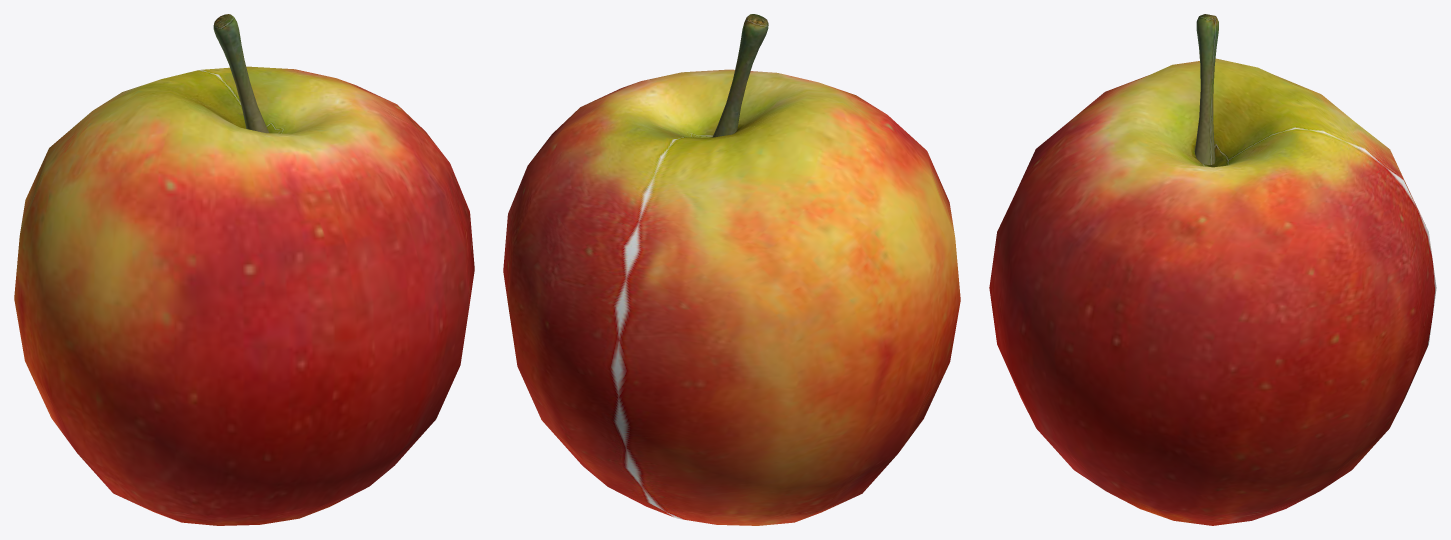
File: apple-512.glb
The picture shows the model from 3 angles, left to right: view 1: azimuth 30°, elevation 25°; view 2: azimuth 150°, elevation 25°; view 3: azimuth 270°, elevation 25°; orthographic projection. The views are drawn at different scales.
Parts seen in each view (by area): view 1: apple_Sphere; view 2: apple_Sphere; view 3: apple_Sphere.
Part boxes in pixels (x1,y1,x2,y2): apple_Sphere: [14, 14, 474, 525]; apple_Sphere: [503, 14, 960, 525]; apple_Sphere: [989, 14, 1436, 525].
Bounding box in the file's own units: 0.1142 × 0.1302 × 0.1138.
Materials: 1 (1 with a texture image).
